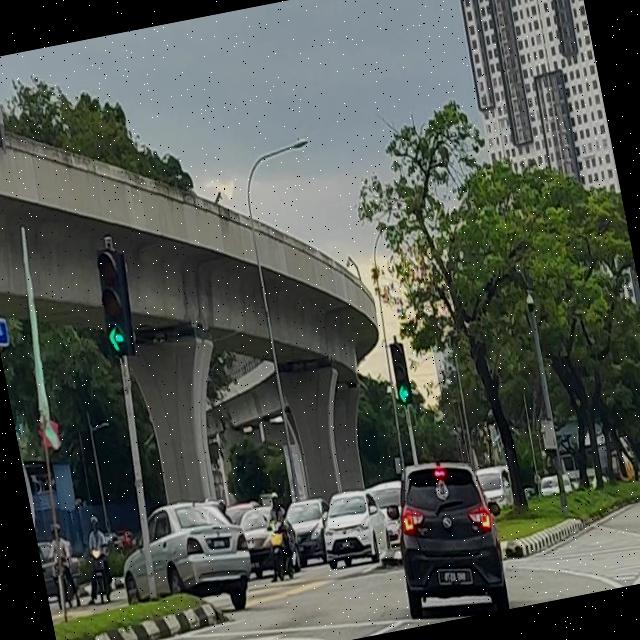green_light: (89, 243, 140, 358), (388, 342, 414, 406)
